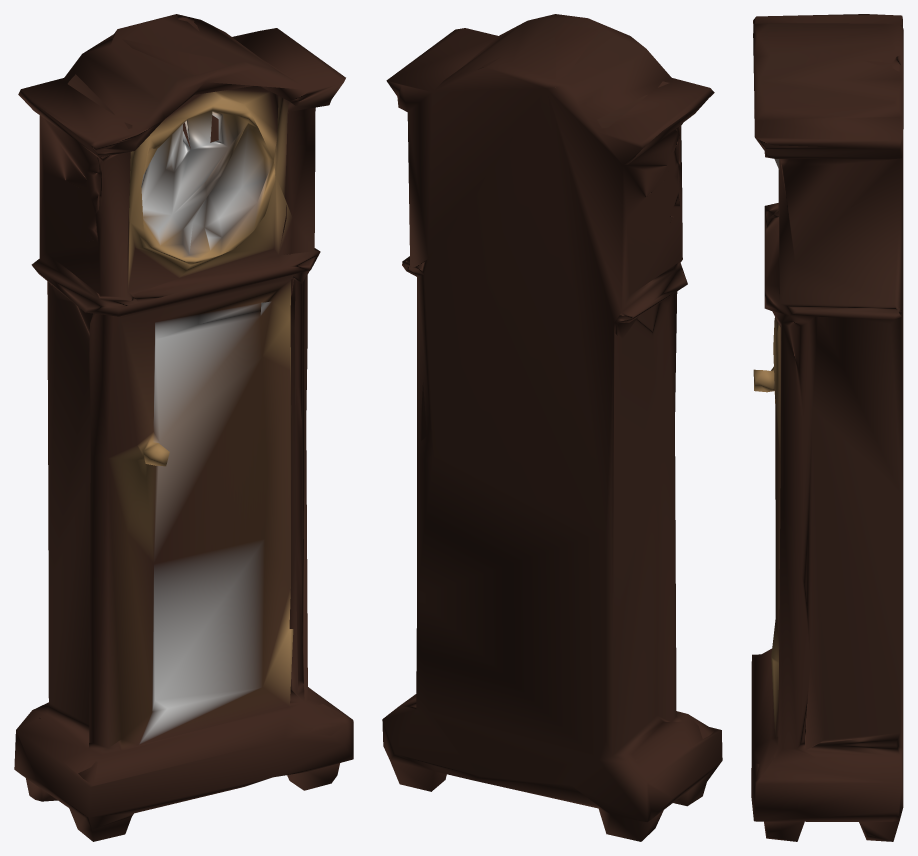
File: gen3d-grandfather-clock-lod1.glb
3 renders of one model, left to right at view 1: azimuth 30°, elevation 25°; view 2: azimuth 150°, elevation 25°; view 3: azimuth 270°, elevation 25°, orthographic.
Parts seen in each view (by area): view 1: part_0; view 2: part_0; view 3: part_0.
Boxes of the visible parts, x1,y1,x2,y2 form: part_0: (14,14,353,841); part_0: (382,14,722,841); part_0: (751,14,903,841).
Bounding box in the file's own units: 0.3747 × 1 × 0.1842.
